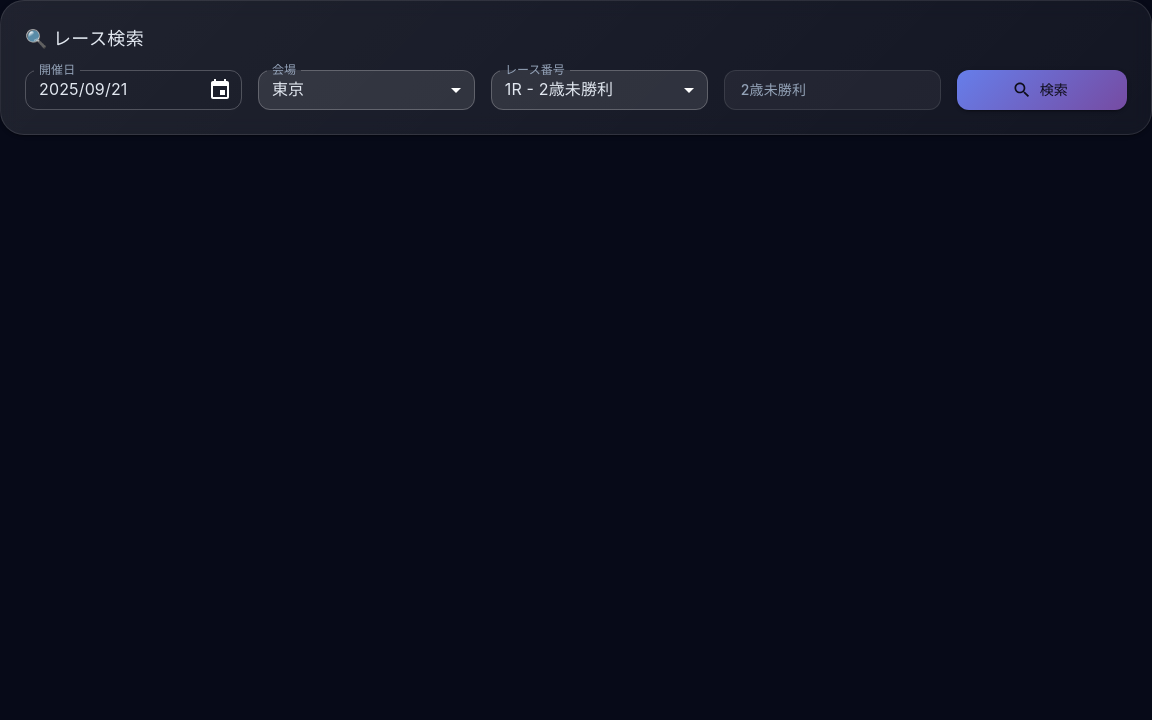
Test: SearchArea › レース番号選択が動作すること
The image size is (1152, 720).
Step 1. Click the dropdown labelled "1R - 2歳未勝利" → (559, 89), box [505,79,613,99]
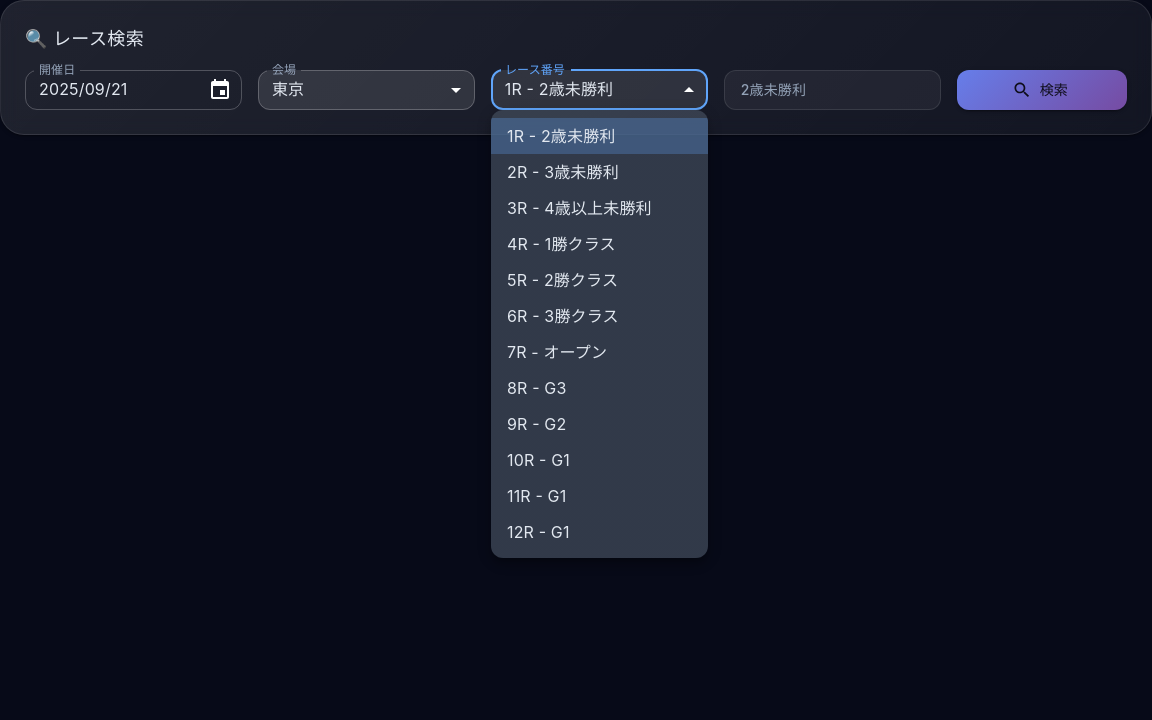
Expected: the number of dropdowns "1R - 2歳未勝利" is 2, [505,79,613,99]; [491,118,708,154]
Result: the option "2R - 3歳未勝利" is shown at [507,162,619,182]
Result: the option "3R - 4歳以上未勝利" is shown at [507,198,652,218]
